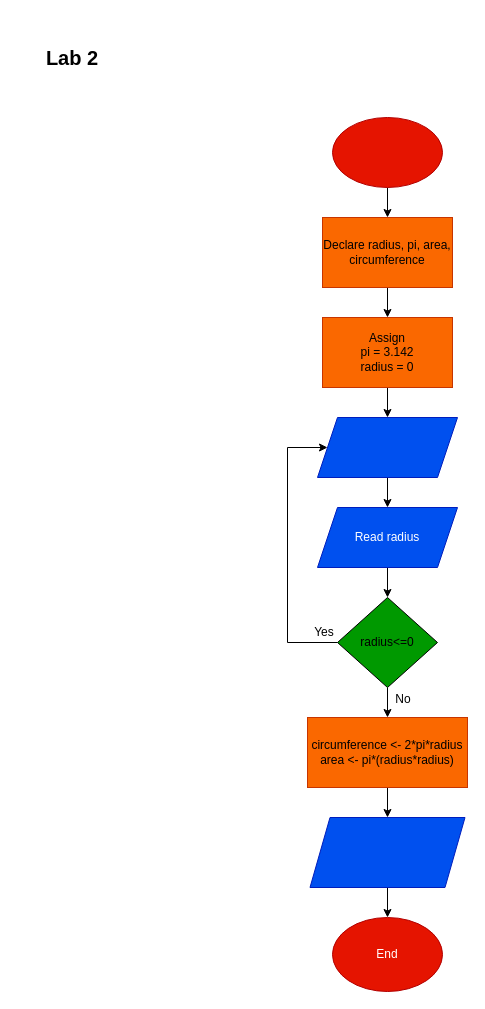
This 485x1009 diagram has some shape labels left out. Here are the shapes that lost their labels. From the top down, the centre of each, then its label:
(387,152): Start
(387,447): Print "Please enter radius in cm:"
(387,852): Display circumference, area
